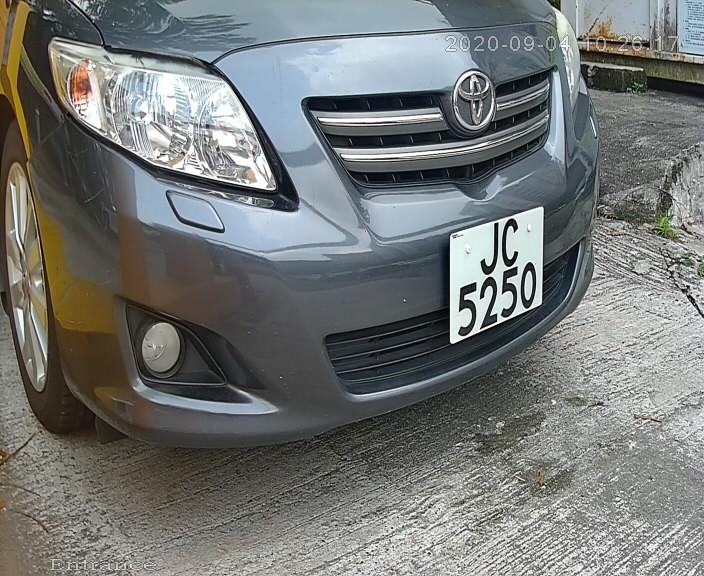Car: (16, 19, 639, 458)
License Plate: (441, 199, 551, 348)
